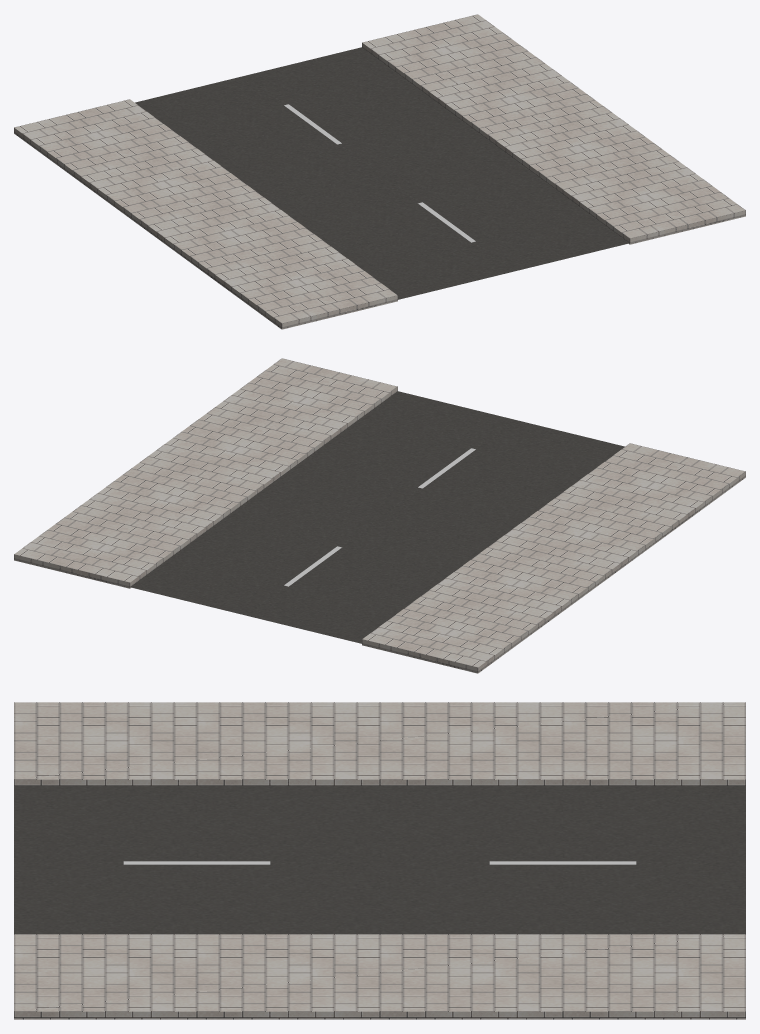
Rendered from Street_short.fbx.
3 views of the same model, one above another, from view 1: azimuth 30°, elevation 25°; view 2: azimuth 150°, elevation 25°; view 3: azimuth 270°, elevation 25° (orthographic). The views are drawn at different scales.
Visible parts, largest first — view 1: pavement, street, line; view 2: pavement, street, line; view 3: pavement, street, line.
Boxes of the visible parts, left/top/right/bottom form: pavement: left=14, top=14, right=745, bottom=329; street: left=135, top=47, right=629, bottom=299; line: left=284, top=104, right=475, bottom=242; pavement: left=14, top=358, right=745, bottom=673; street: left=130, top=391, right=624, bottom=643; line: left=284, top=448, right=475, bottom=586; pavement: left=14, top=702, right=745, bottom=1019; street: left=14, top=785, right=745, bottom=934; line: left=123, top=861, right=636, bottom=864.
Size of the model in its own units: 400 by 5 by 400.
